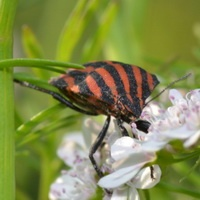insect: (14, 61, 169, 176)
